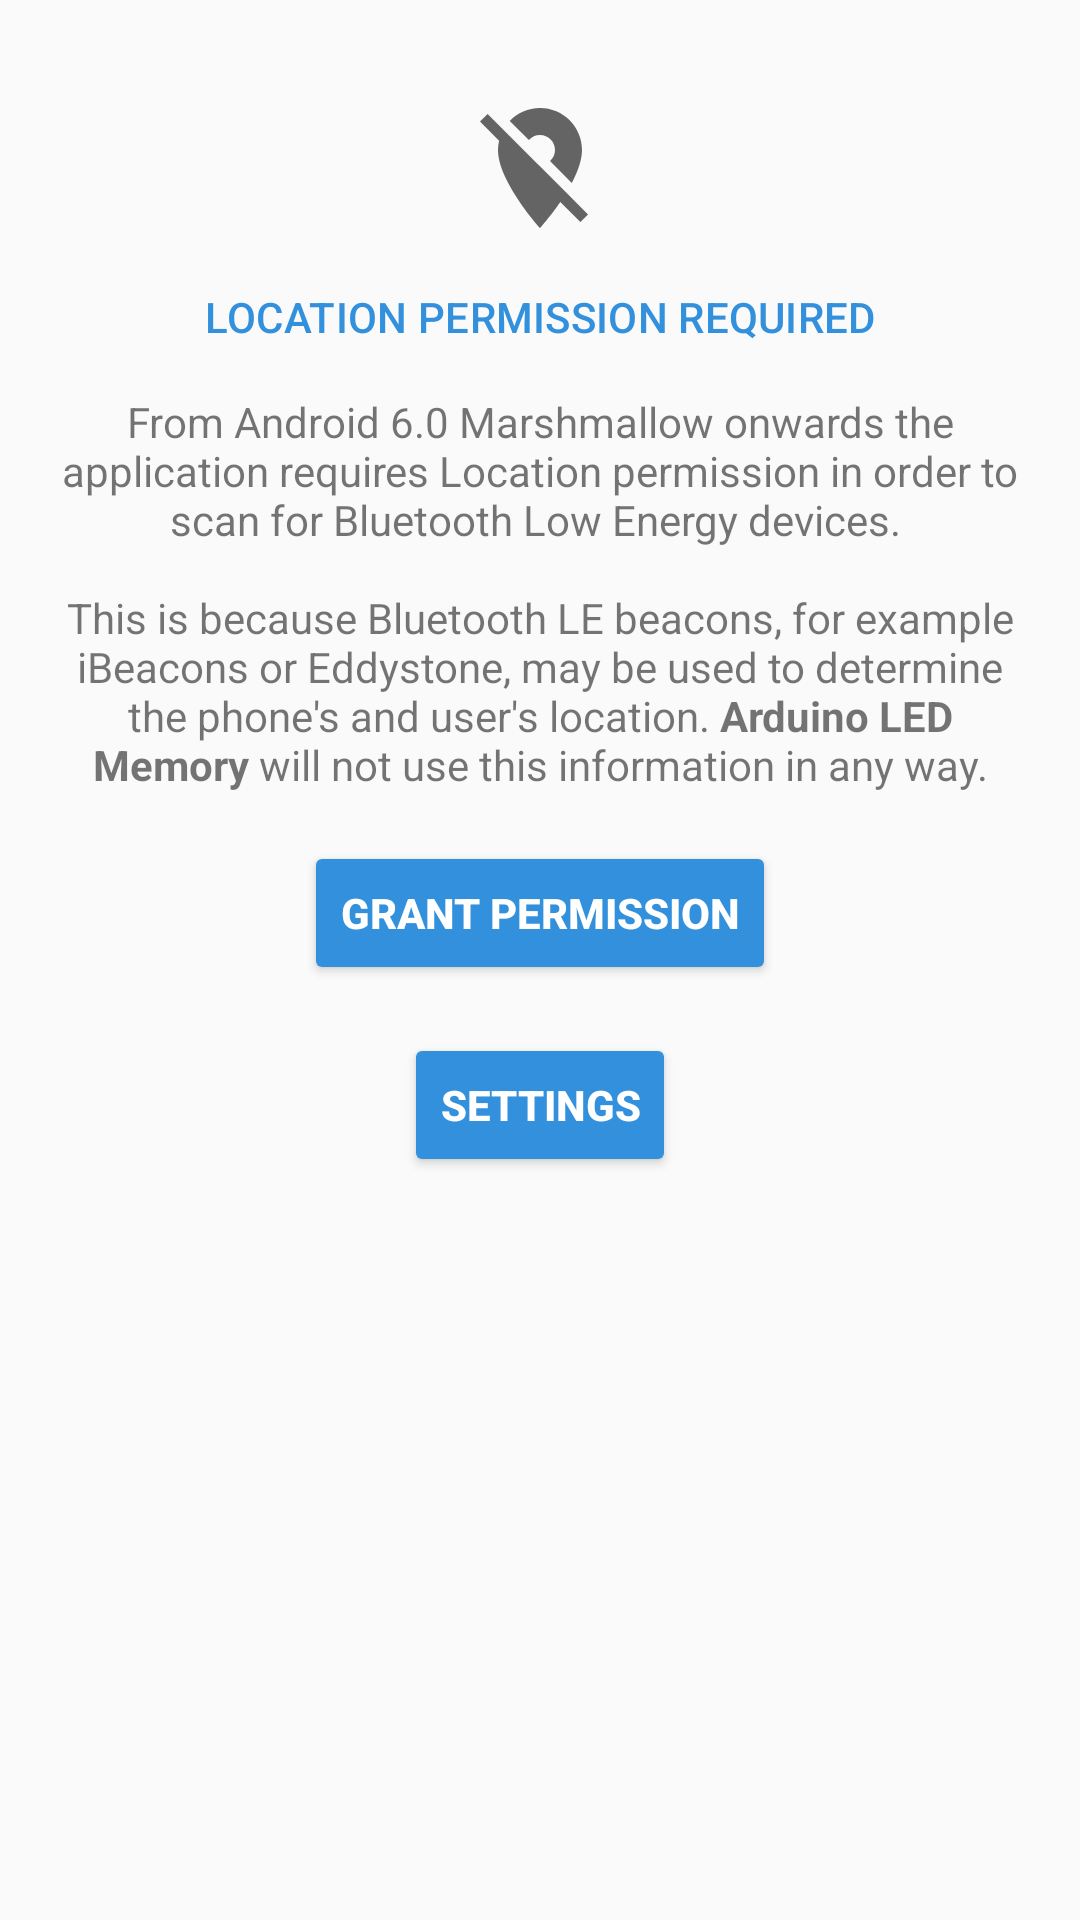

Icon click points for this 1080x1920 phone screenshot, format [x,y]:
location off: [534,168]
